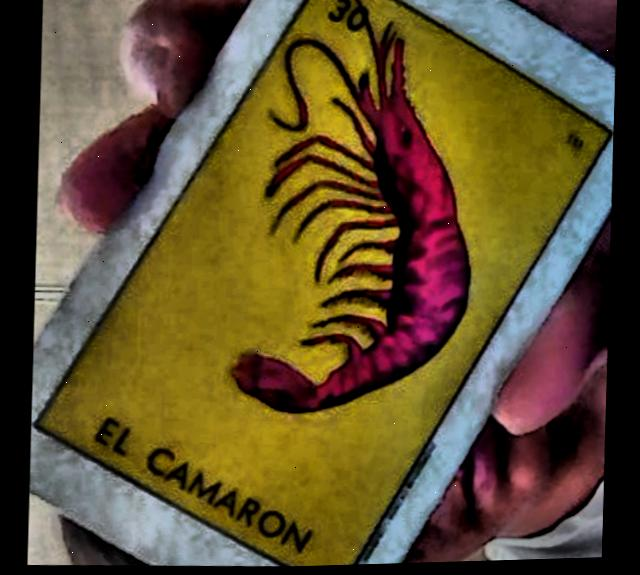El Camaron: (38, 0, 612, 568)
